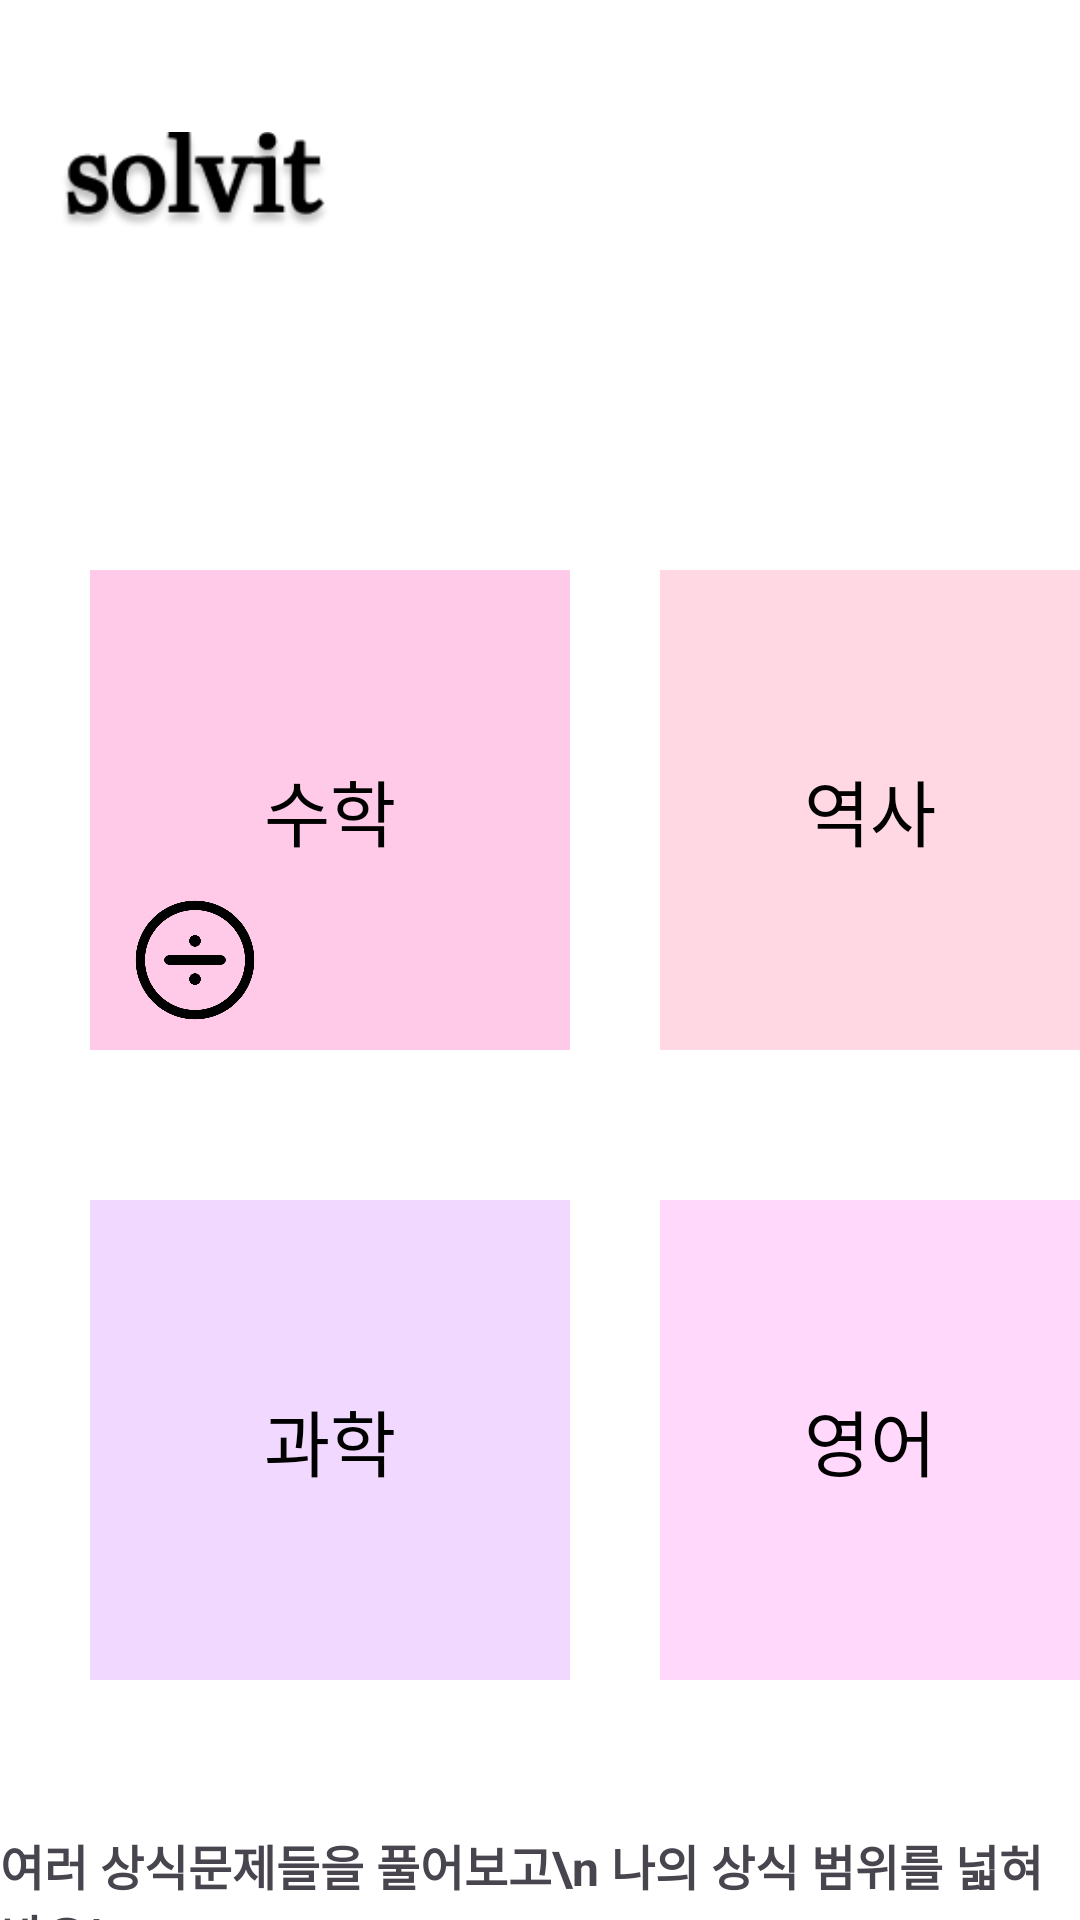

Icons on this 1080×1920 Android screen, each with its box as bbox=(x1, y1, x2, y2):
divison: bbox=(136, 901, 254, 1019)
